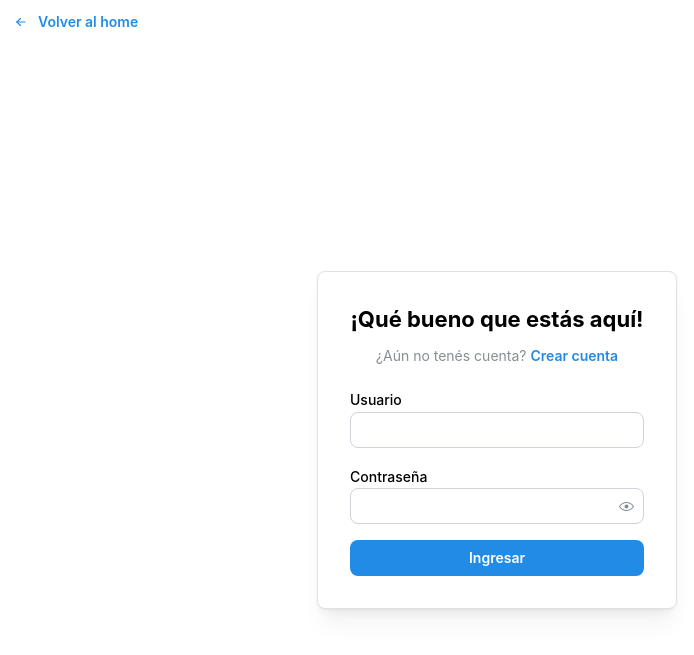
Scenario: LoginPage › bloquea el envio con campos vacios (validacion cliente)
Click the button "Ingresar": (497, 558) top-left (350, 540), bottom-right (644, 576)
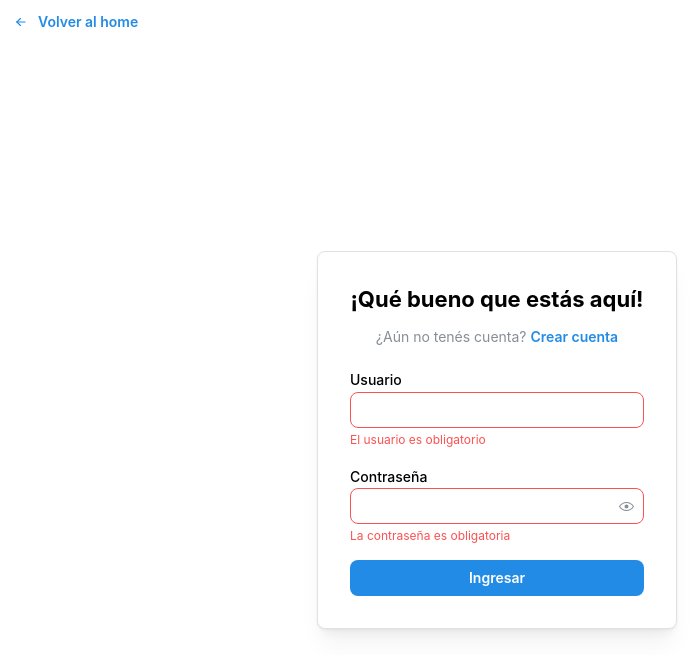
Expected: the text "El usuario es obligatorio" is shown, top-left (350, 432), bottom-right (486, 447)
Expected: the text "La contraseña es obligatoria" is shown, top-left (350, 528), bottom-right (510, 543)
